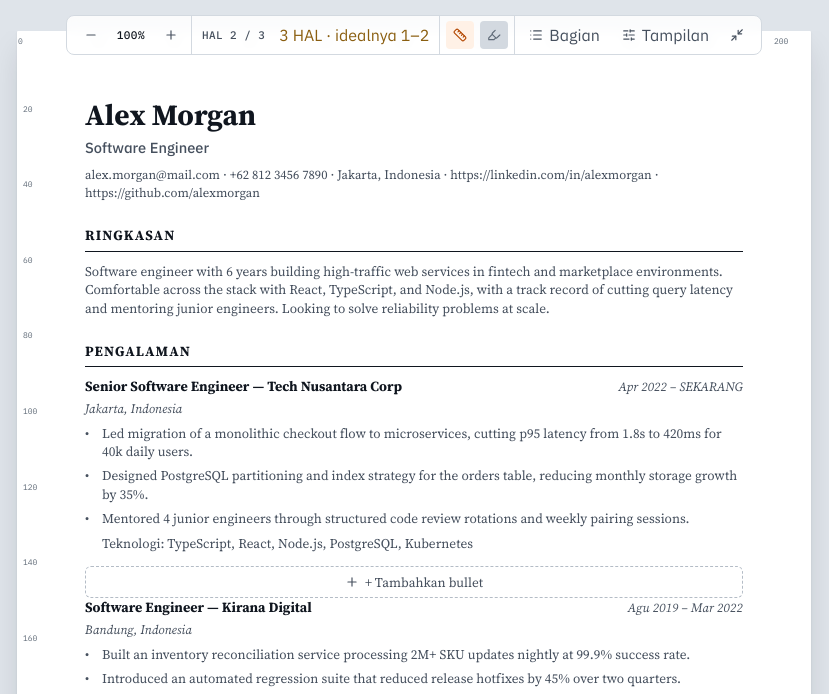
kepala entri editable di kertas (C4.1) › klik segmen role → editor → Enter: nilai masuk ke entri lewat updateEntry
Step 1. Click the button "Senior Software Engineer" → (167, 387), box x1=85 y1=377 x2=249 y2=397
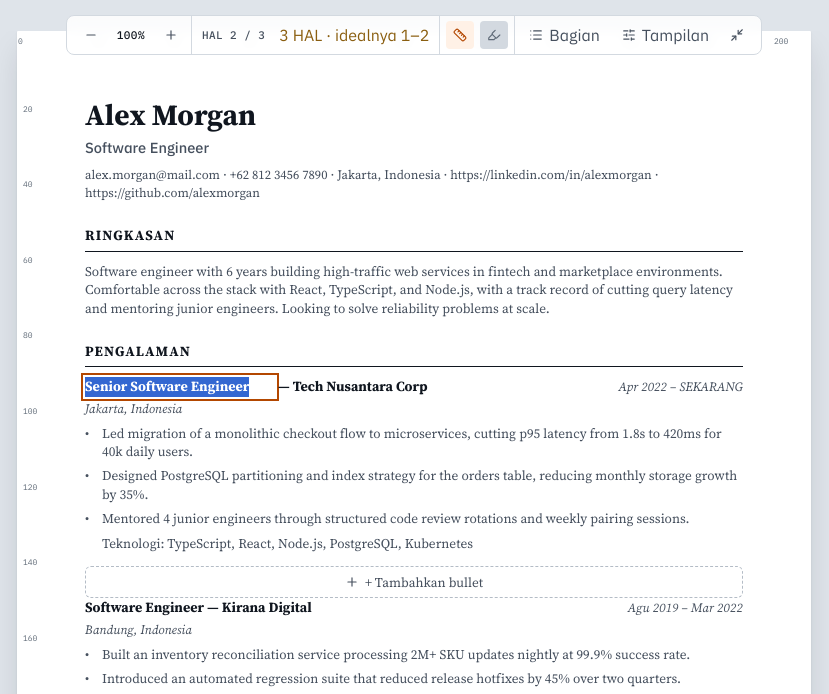
Check: the field with class "canvas-editor" is shown
Step 2. Replace the text in the field with class "canvas-editor" with "Staff Engineer" → (180, 387), box x1=85 y1=377 x2=275 y2=397
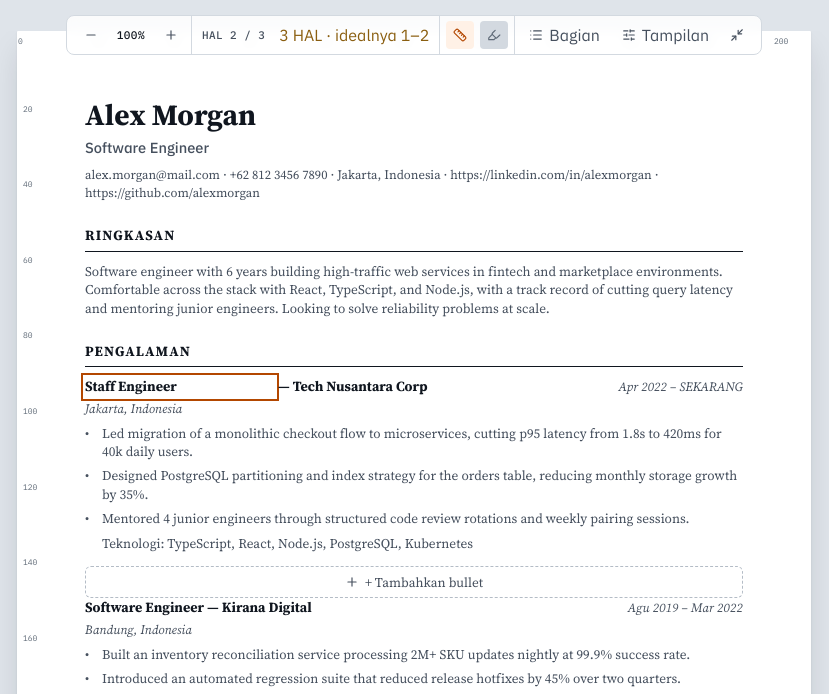
Step 3. Press Enter
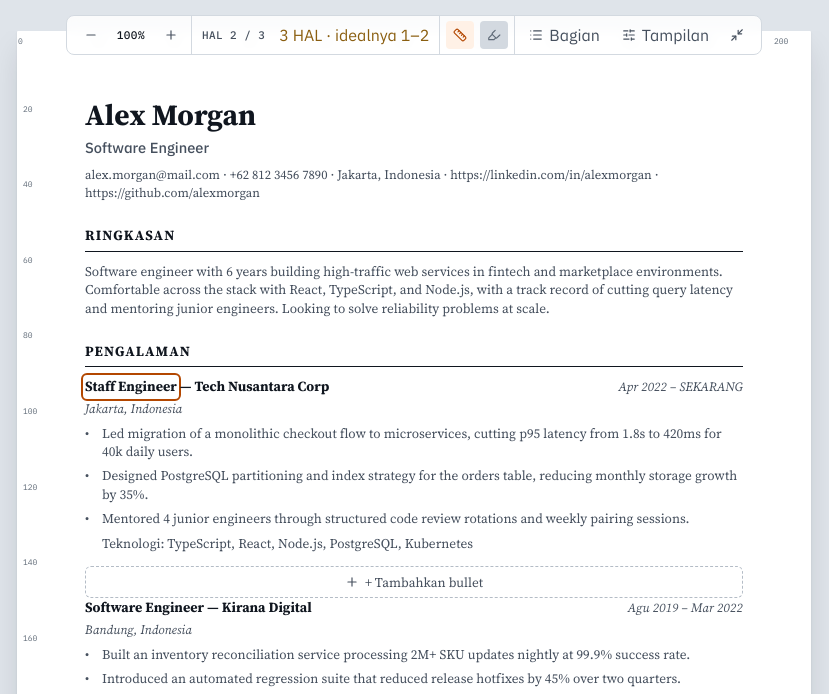
Check: the button "Tech Nusantara Corp" is shown, box x1=194 y1=377 x2=329 y2=397
Check: the field with class "canvas-editor" is gone
